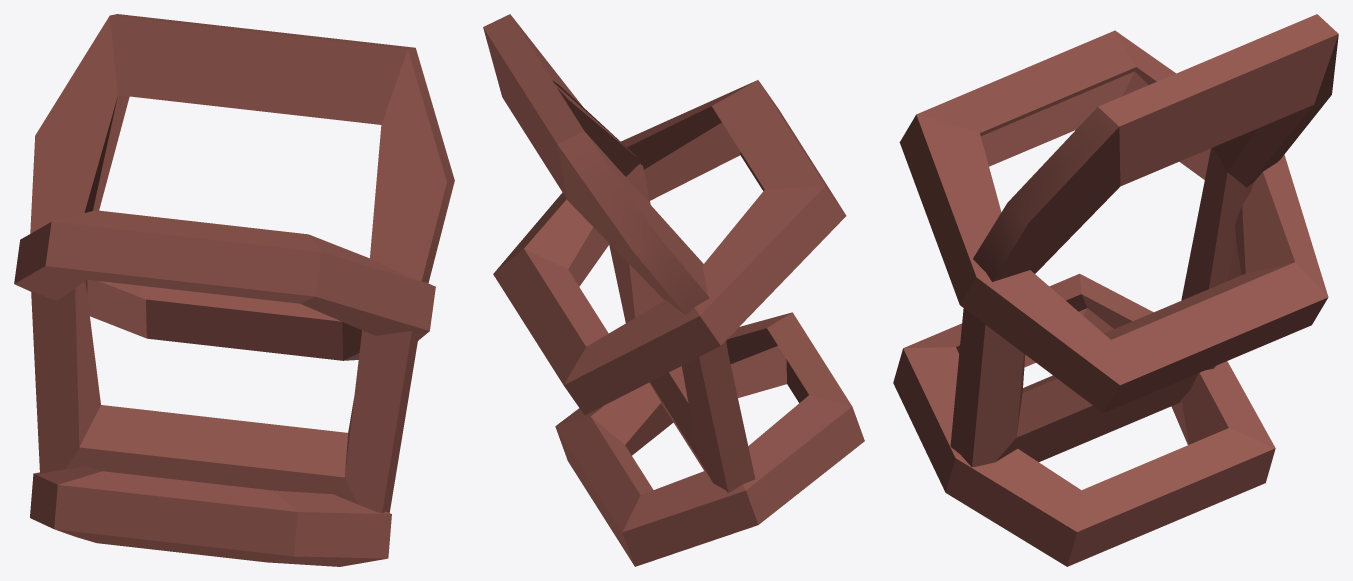
The model's file is horse_halter.fbx.
3 renders of one model, left to right at view 1: azimuth 30°, elevation 25°; view 2: azimuth 150°, elevation 25°; view 3: azimuth 270°, elevation 25°, orthographic. The views are drawn at different scales.
Visible parts, largest first — view 1: polySurface22; view 2: polySurface22; view 3: polySurface22.
Boxes of the visible parts, x1=… form: polySurface22: x1=14, y1=14, x2=454, y2=566; polySurface22: x1=483, y1=14, x2=864, y2=566; polySurface22: x1=893, y1=14, x2=1338, y2=566.
Size of the model in its own units: 7.03 by 8.39 by 6.99.
